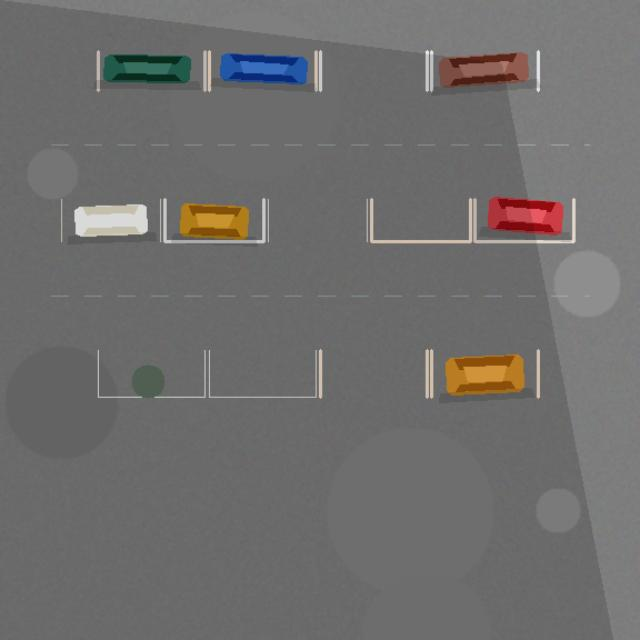space-empty: (209, 350, 316, 397), (320, 350, 427, 397), (98, 350, 204, 397), (320, 51, 427, 90), (268, 199, 367, 241), (371, 199, 470, 241)
space-occupied: (431, 350, 538, 397), (209, 51, 316, 90), (431, 51, 538, 90), (61, 199, 160, 241), (164, 199, 263, 241), (474, 199, 573, 241), (98, 51, 204, 90)
